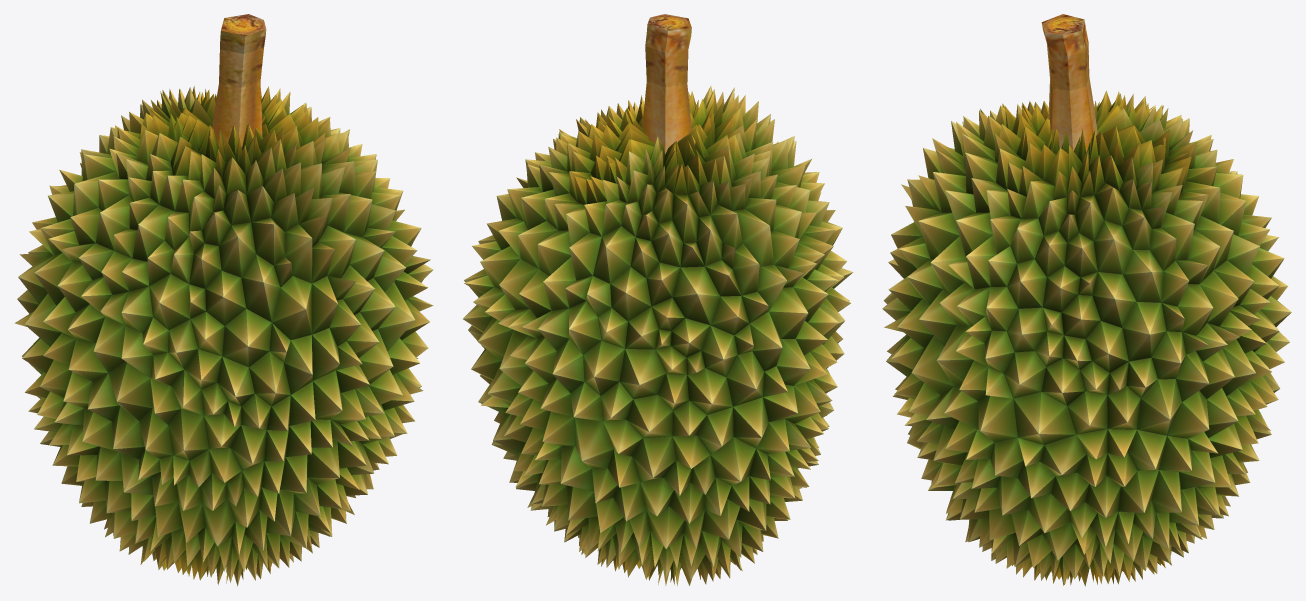
Rendered from Durian.glb.
3 renders of one model, left to right at view 1: azimuth 30°, elevation 25°; view 2: azimuth 150°, elevation 25°; view 3: azimuth 270°, elevation 25°, orthographic. The views are drawn at different scales.
Visible parts, largest first — view 1: Durian_Geo; view 2: Durian_Geo; view 3: Durian_Geo.
Part boxes in pixels (x1=…): Durian_Geo: x1=14, y1=14, x2=433, y2=586; Durian_Geo: x1=463, y1=14, x2=853, y2=585; Durian_Geo: x1=882, y1=14, x2=1291, y2=586.
Size of the model in its own units: 0.2884 by 0.4369 by 0.291.
Materials: 1 (1 with a texture image).
